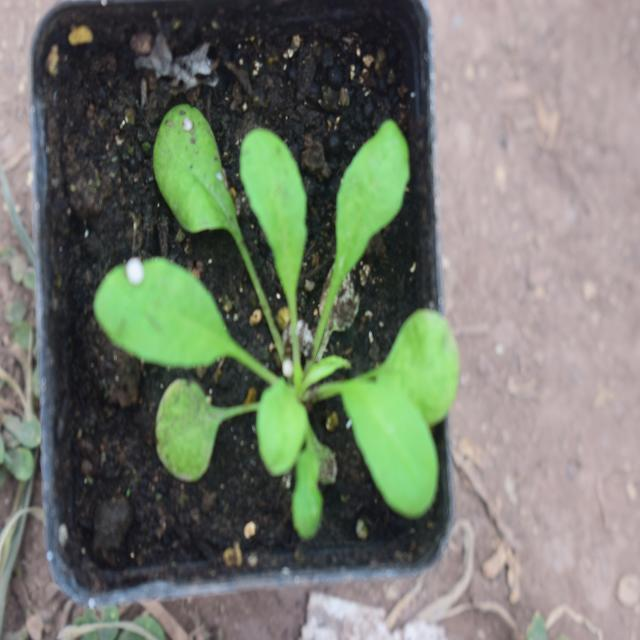Shepherd_Purse: (119, 113, 434, 505)
